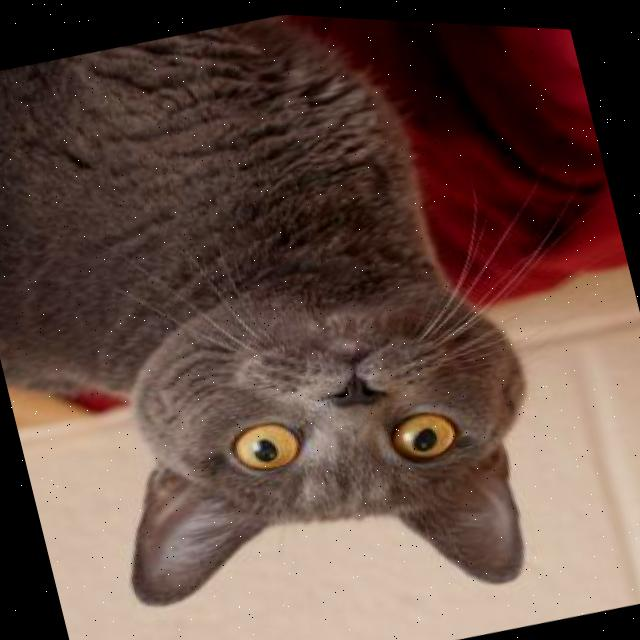British Shorthair: (0, 0, 581, 640)
